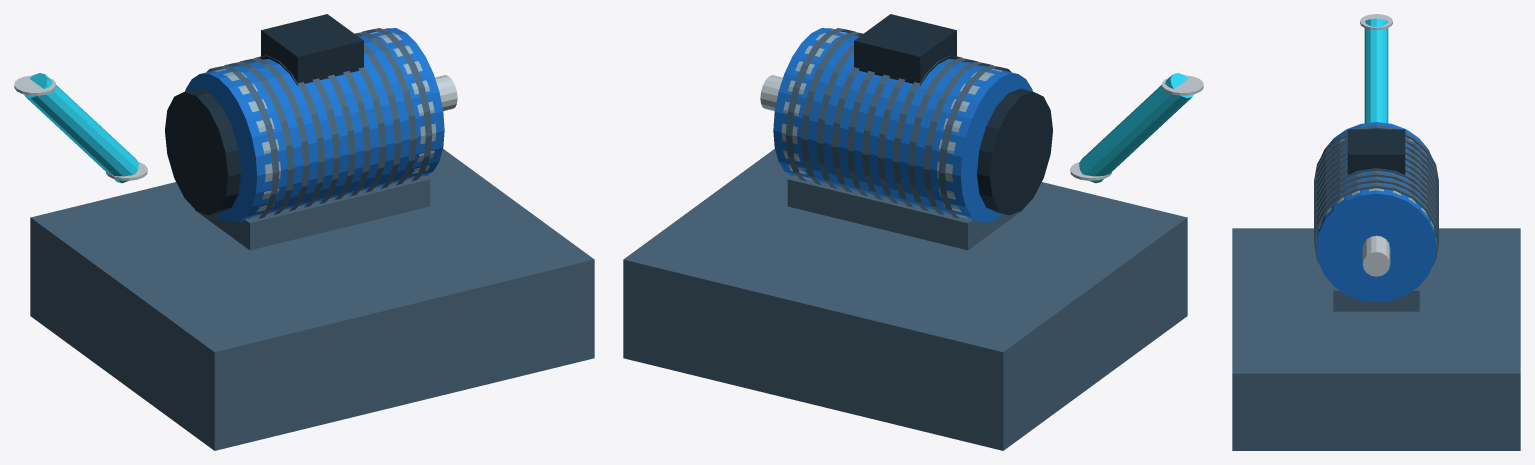
File: 16_L77_BulkSlurryDeliveryPump.fbx
The picture shows the model from 3 angles, left to right: view 1: azimuth 30°, elevation 25°; view 2: azimuth 150°, elevation 25°; view 3: azimuth 270°, elevation 25°; orthographic projection. The views are drawn at different scales.
Parts seen in each view (by area): view 1: BulkSlurryDeliveryPump, BulkSlurryDeliveryPump_Part_0001, BulkSlurryDeliveryPump_Part_0014, BulkSlurryDeliveryPump_Part_0015, BulkSlurryDeliveryPump_Part_0016, BulkSlurryDeliveryPump_Part_0002, BulkSlurryDeliveryPump_Part_0012, BulkSlurryDeliveryPump_Part_0003, BulkSlurryDeliveryPump_Part_0004, BulkSlurryDeliveryPump_Part_0011, BulkSlurryDeliveryPump_Part_0010, BulkSlurryDeliveryPump_Part_0005 (+7 smaller); view 2: BulkSlurryDeliveryPump, BulkSlurryDeliveryPump_Part_0001, BulkSlurryDeliveryPump_Part_0014, BulkSlurryDeliveryPump_Part_0015, BulkSlurryDeliveryPump_Part_0016, BulkSlurryDeliveryPump_Part_0002, BulkSlurryDeliveryPump_Part_0012, BulkSlurryDeliveryPump_Part_0003, BulkSlurryDeliveryPump_Part_0004, BulkSlurryDeliveryPump_Part_0011, BulkSlurryDeliveryPump_Part_0010, BulkSlurryDeliveryPump_Part_0005 (+7 smaller); view 3: BulkSlurryDeliveryPump, BulkSlurryDeliveryPump_Part_0001, BulkSlurryDeliveryPump_Part_0016, BulkSlurryDeliveryPump_Part_0015, BulkSlurryDeliveryPump_Part_0013, BulkSlurryDeliveryPump_Part_0012, BulkSlurryDeliveryPump_Part_0011, BulkSlurryDeliveryPump_Part_0010, BulkSlurryDeliveryPump_Part_0009, BulkSlurryDeliveryPump_Part_0002, BulkSlurryDeliveryPump_Part_0004, BulkSlurryDeliveryPump_Part_0005 (+4 smaller).
Boxes of the visible parts, left/top/right/bottom form: BulkSlurryDeliveryPump: left=14, top=73, right=594, bottom=450; BulkSlurryDeliveryPump_Part_0001: left=185, top=28, right=444, bottom=222; BulkSlurryDeliveryPump_Part_0014: left=165, top=88, right=240, bottom=215; BulkSlurryDeliveryPump_Part_0015: left=195, top=175, right=430, bottom=250; BulkSlurryDeliveryPump_Part_0016: left=261, top=14, right=363, bottom=85; BulkSlurryDeliveryPump_Part_0002: left=206, top=65, right=279, bottom=218; BulkSlurryDeliveryPump_Part_0012: left=362, top=28, right=432, bottom=181; BulkSlurryDeliveryPump_Part_0003: left=224, top=61, right=294, bottom=214; BulkSlurryDeliveryPump_Part_0004: left=240, top=58, right=309, bottom=211; BulkSlurryDeliveryPump_Part_0011: left=355, top=31, right=416, bottom=184; BulkSlurryDeliveryPump_Part_0010: left=364, top=43, right=401, bottom=188; BulkSlurryDeliveryPump_Part_0005: left=255, top=55, right=325, bottom=207; BulkSlurryDeliveryPump: left=623, top=73, right=1203, bottom=450; BulkSlurryDeliveryPump_Part_0001: left=773, top=28, right=1032, bottom=222; BulkSlurryDeliveryPump_Part_0014: left=977, top=88, right=1052, bottom=215; BulkSlurryDeliveryPump_Part_0015: left=787, top=175, right=1022, bottom=250; BulkSlurryDeliveryPump_Part_0016: left=854, top=14, right=956, bottom=85; BulkSlurryDeliveryPump_Part_0002: left=938, top=65, right=1011, bottom=218; BulkSlurryDeliveryPump_Part_0012: left=785, top=28, right=855, bottom=181; BulkSlurryDeliveryPump_Part_0003: left=923, top=61, right=993, bottom=214; BulkSlurryDeliveryPump_Part_0004: left=908, top=58, right=977, bottom=211; BulkSlurryDeliveryPump_Part_0011: left=801, top=31, right=862, bottom=184; BulkSlurryDeliveryPump_Part_0010: left=816, top=43, right=853, bottom=188; BulkSlurryDeliveryPump_Part_0005: left=892, top=55, right=962, bottom=207; BulkSlurryDeliveryPump: left=1232, top=14, right=1520, bottom=450; BulkSlurryDeliveryPump_Part_0001: left=1316, top=122, right=1436, bottom=302; BulkSlurryDeliveryPump_Part_0016: left=1347, top=129, right=1405, bottom=174; BulkSlurryDeliveryPump_Part_0015: left=1333, top=286, right=1419, bottom=311; BulkSlurryDeliveryPump_Part_0013: left=1362, top=235, right=1390, bottom=276; BulkSlurryDeliveryPump_Part_0012: left=1314, top=183, right=1438, bottom=264; BulkSlurryDeliveryPump_Part_0011: left=1314, top=177, right=1438, bottom=237; BulkSlurryDeliveryPump_Part_0010: left=1314, top=172, right=1438, bottom=232; BulkSlurryDeliveryPump_Part_0009: left=1314, top=168, right=1438, bottom=226; BulkSlurryDeliveryPump_Part_0002: left=1314, top=125, right=1438, bottom=185; BulkSlurryDeliveryPump_Part_0004: left=1314, top=144, right=1438, bottom=197; BulkSlurryDeliveryPump_Part_0005: left=1314, top=150, right=1438, bottom=202.
Size of the model in its own units: 175 by 113 by 115.
